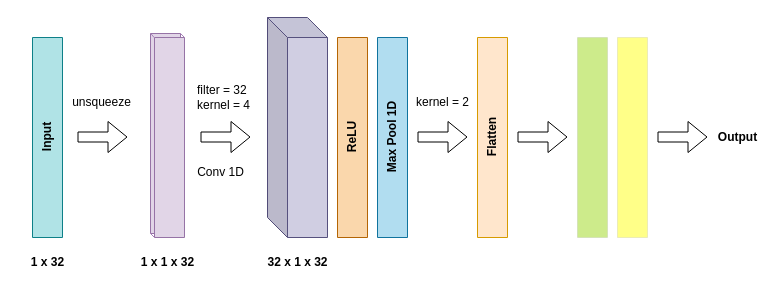
Some shapes in this 784 by 295 pixel diagram are drawn without their labels. Each missing label, with the centre of its shape:
"L i near" belongs at point (592, 137).
"S i gmoid" belongs at point (632, 137).
